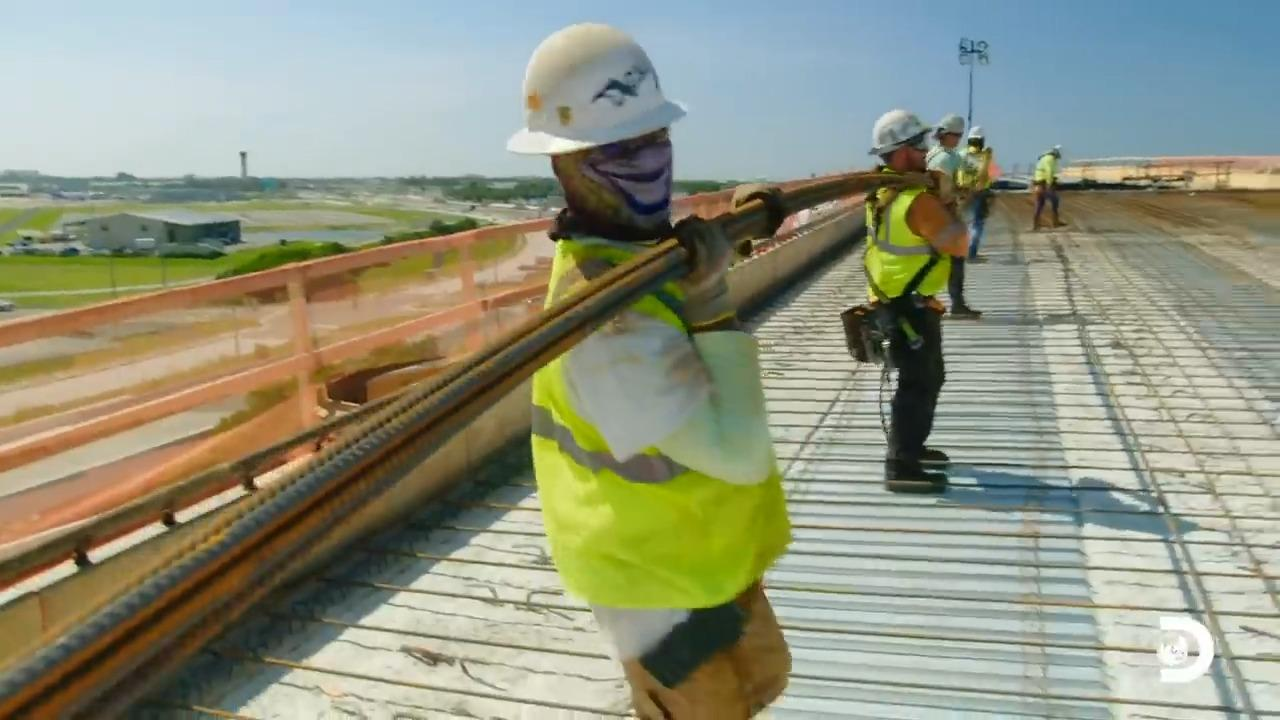Gloves: (660, 207, 729, 291), (728, 182, 790, 240)
Helmet: (505, 21, 687, 155), (867, 109, 932, 155), (935, 113, 964, 136), (969, 126, 986, 141), (1052, 144, 1062, 157)
Person: (506, 21, 794, 719), (861, 109, 966, 493), (957, 125, 997, 261), (1031, 144, 1067, 231)
Safety Boot: (883, 462, 946, 493), (947, 297, 983, 316)
Safety Vest: (539, 286, 764, 584), (869, 197, 939, 292)
